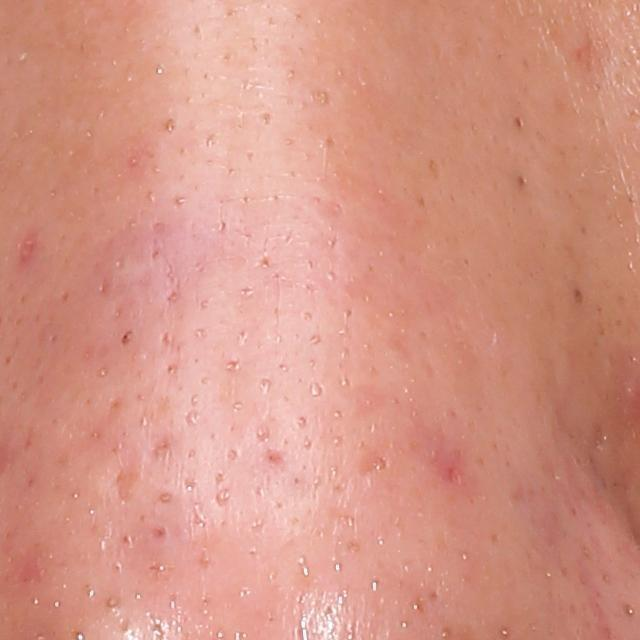atrophic_scar: (92, 448, 148, 505), (354, 445, 390, 479)
comedo: (117, 325, 135, 349), (513, 170, 532, 191)
